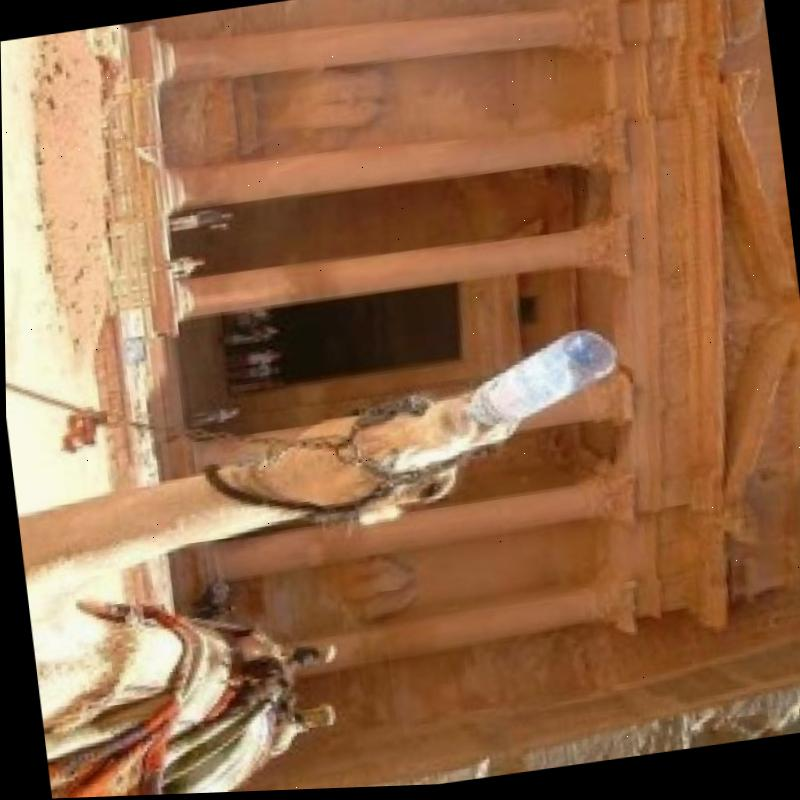botella: (459, 323, 622, 432)
